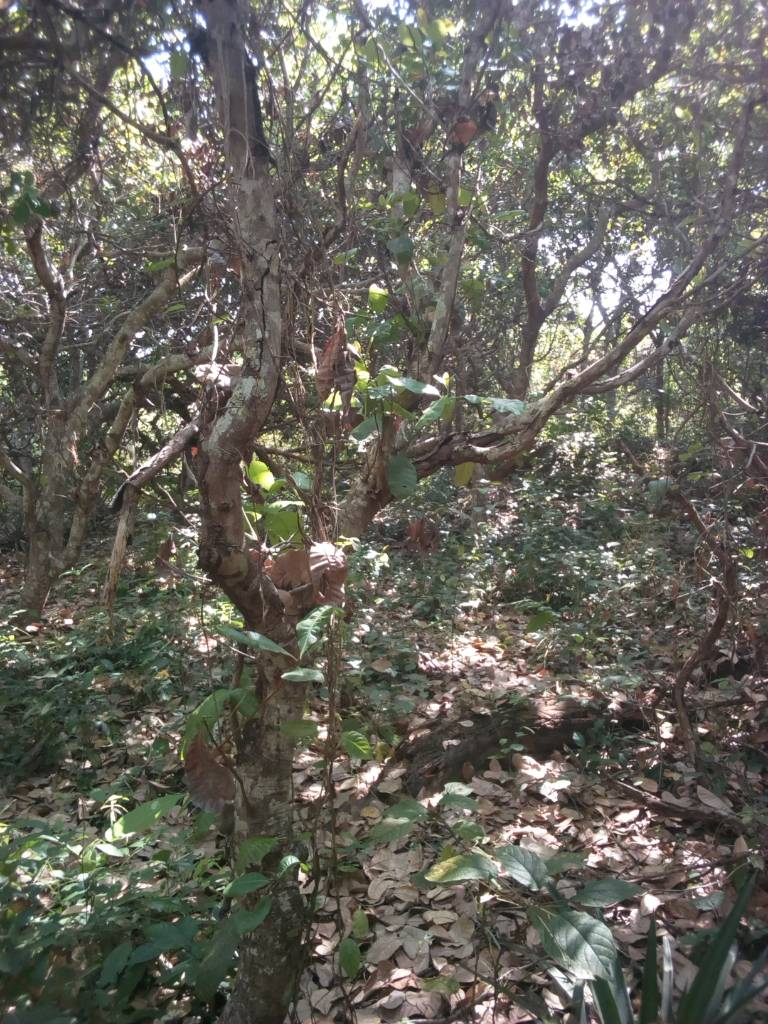Termites: (224, 207, 279, 441)
